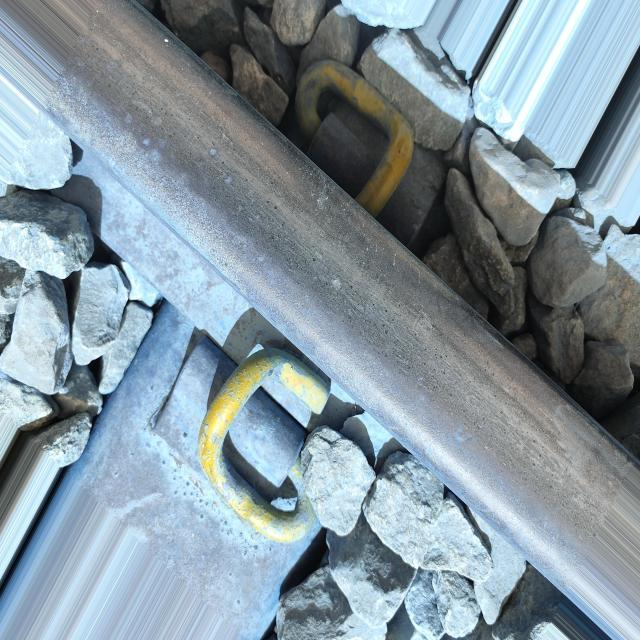Good Fasteners: (110, 295, 357, 549), (277, 61, 458, 231)
